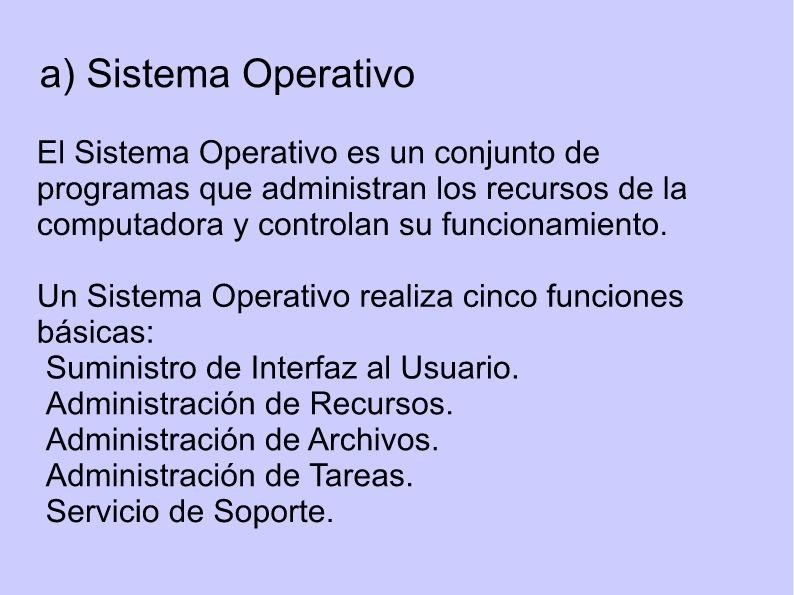paragraph: (18, 124, 728, 548)
title: (26, 35, 468, 112)
